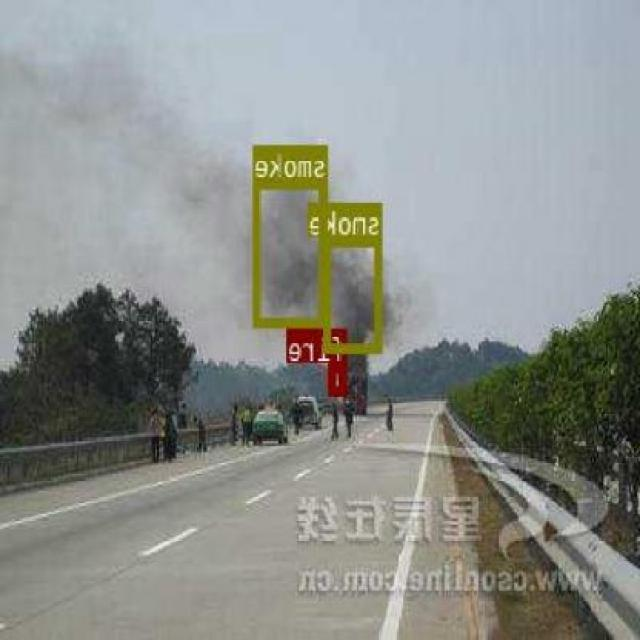Smoke: (256, 178, 330, 326), (325, 235, 384, 352)
